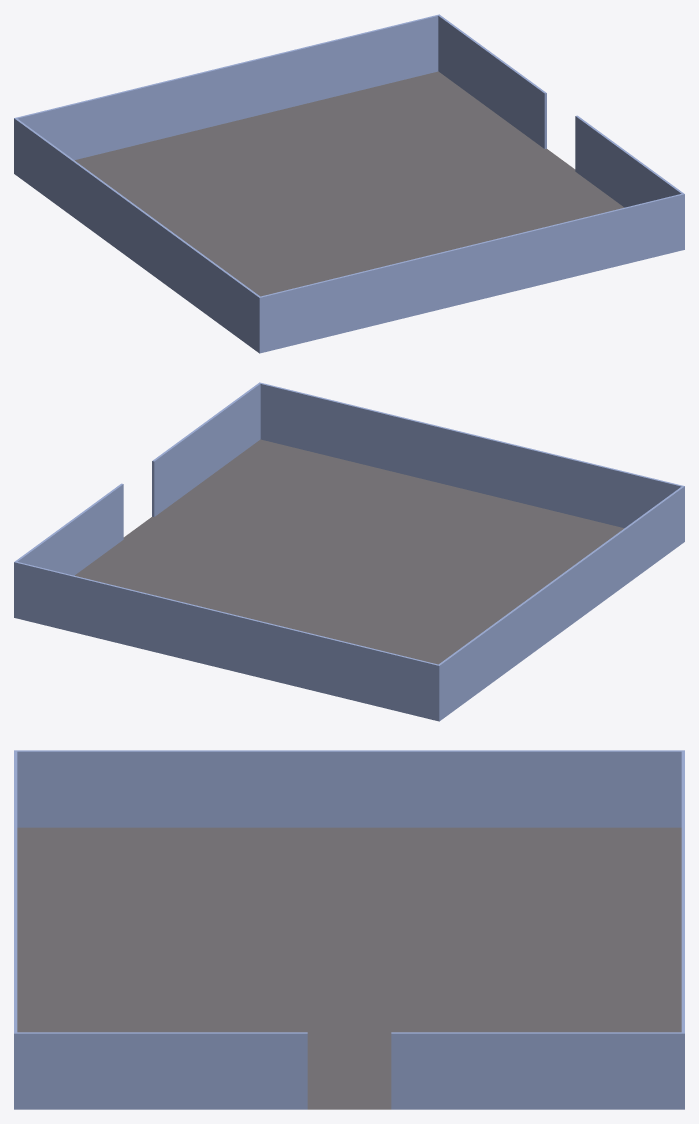
3 views of the same model, one above another, from view 1: azimuth 30°, elevation 25°; view 2: azimuth 150°, elevation 25°; view 3: azimuth 270°, elevation 25° (orthographic). The views are drawn at different scales.
Parts seen in each view (by area): view 1: Cube, Plane; view 2: Cube, Plane; view 3: Plane, Cube.
Boxes of the visible parts, bbox=[...] form: Cube: bbox=[14, 14, 684, 353]; Plane: bbox=[75, 71, 623, 296]; Cube: bbox=[14, 382, 684, 721]; Plane: bbox=[75, 439, 623, 664]; Plane: bbox=[17, 827, 681, 1109]; Cube: bbox=[14, 750, 684, 1109].
Size of the model in its own units: 16 by 2 by 16.
